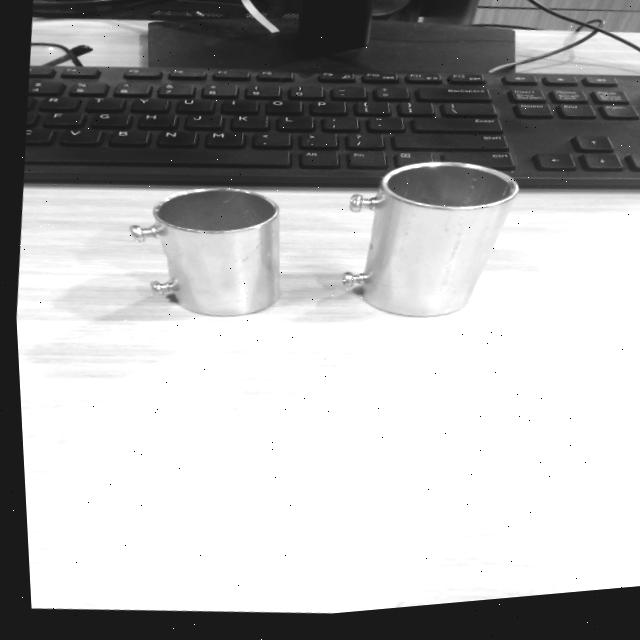Co_Lon: (313, 118, 524, 343)
Co_Nho: (126, 185, 280, 315)
